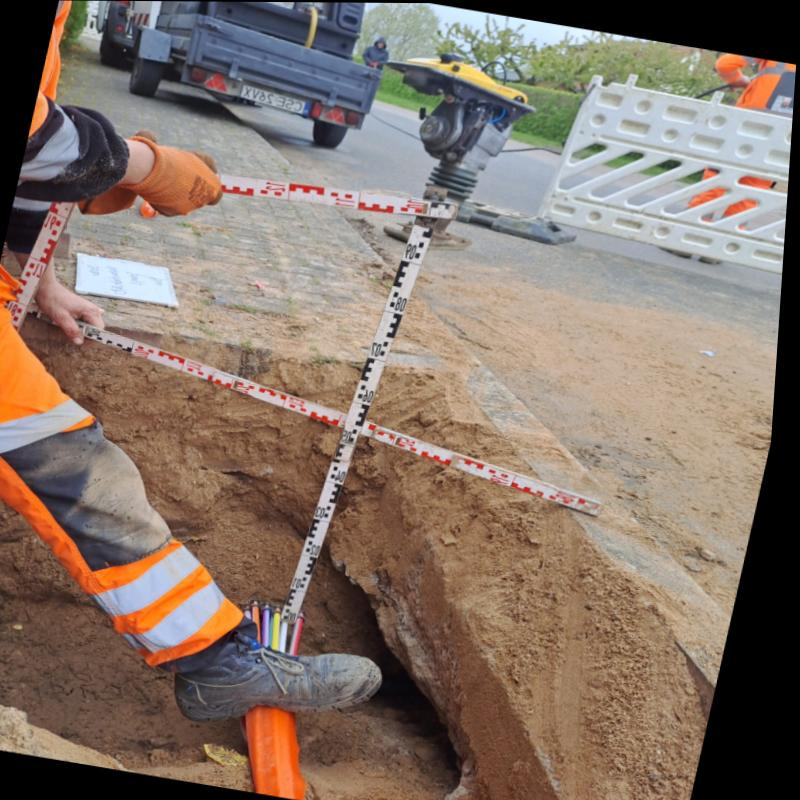Orang-Speednetrohrchen: (254, 704, 312, 800)
